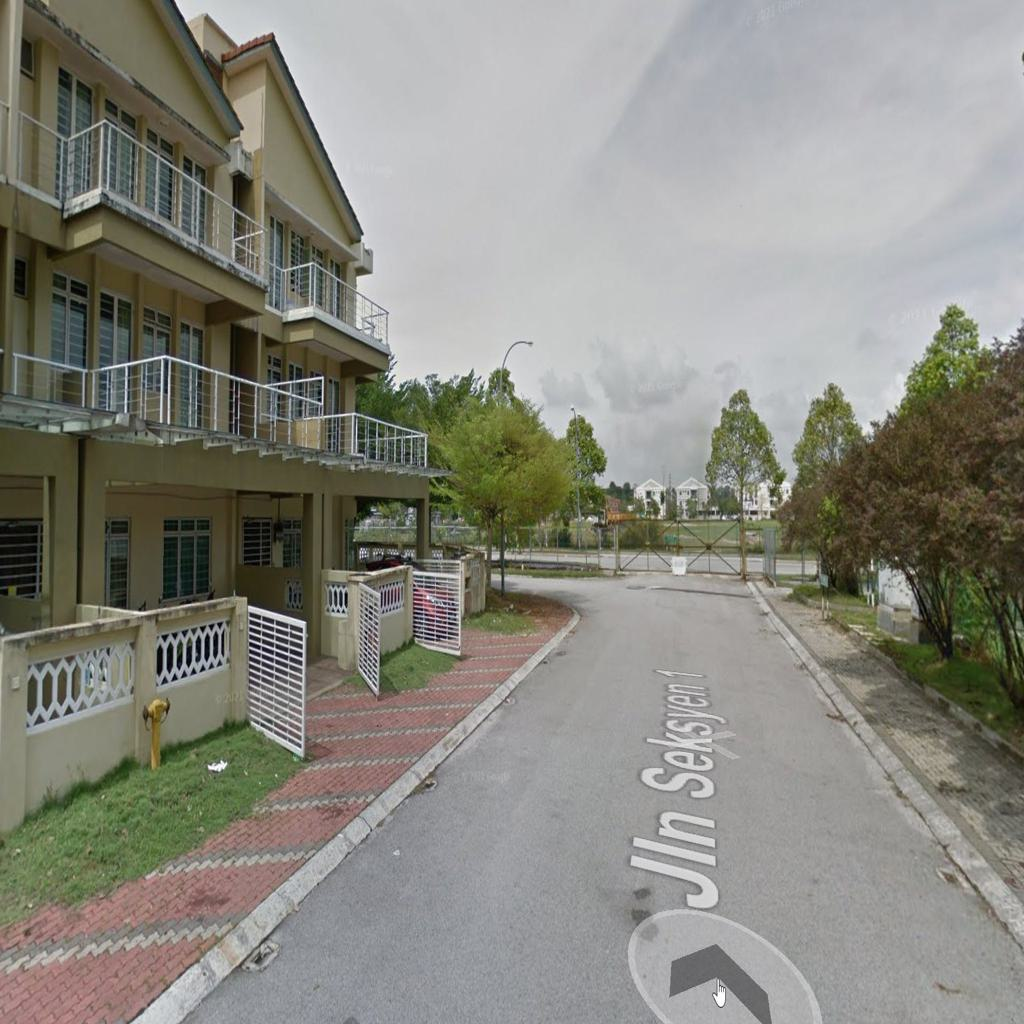Junction: (483, 545, 702, 650)
